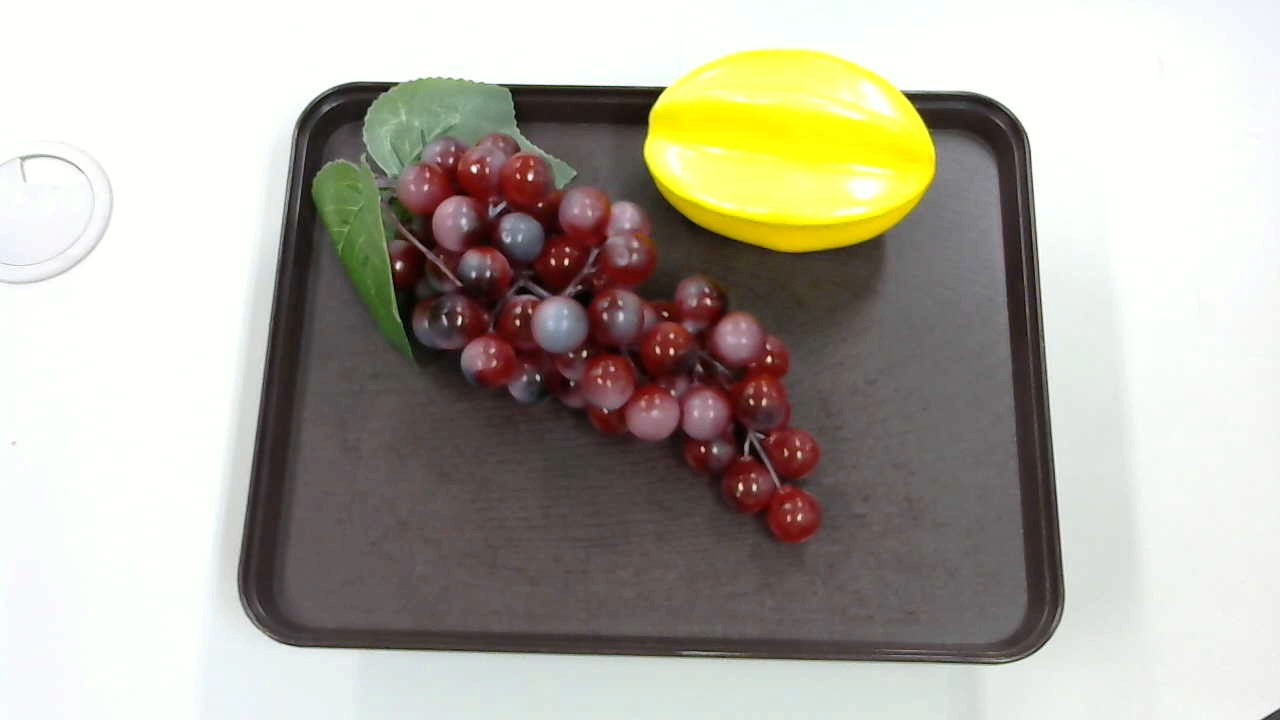grape: (303, 69, 820, 551)
star fruit: (640, 47, 942, 254)
